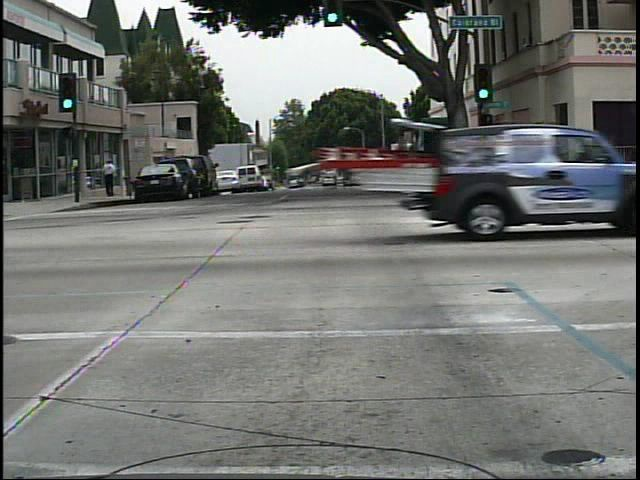person: (453, 142, 481, 196), (97, 153, 123, 202)
